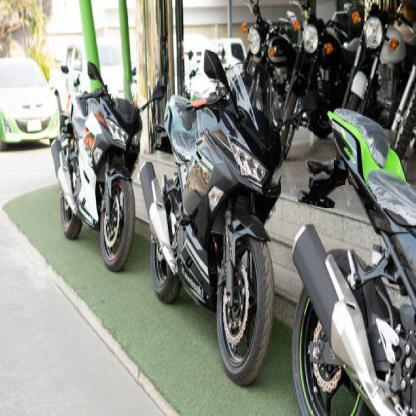Motorcycle: (147, 52, 276, 387), (291, 97, 416, 415), (41, 58, 143, 272)
